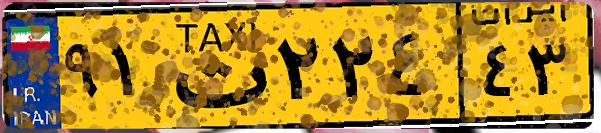1: (110, 28, 158, 98)
2: (270, 28, 330, 110), (330, 28, 385, 110)
3: (525, 38, 570, 115)
4: (385, 28, 445, 110), (475, 38, 525, 113)
9: (57, 26, 110, 100)
ت: (158, 12, 270, 120)
